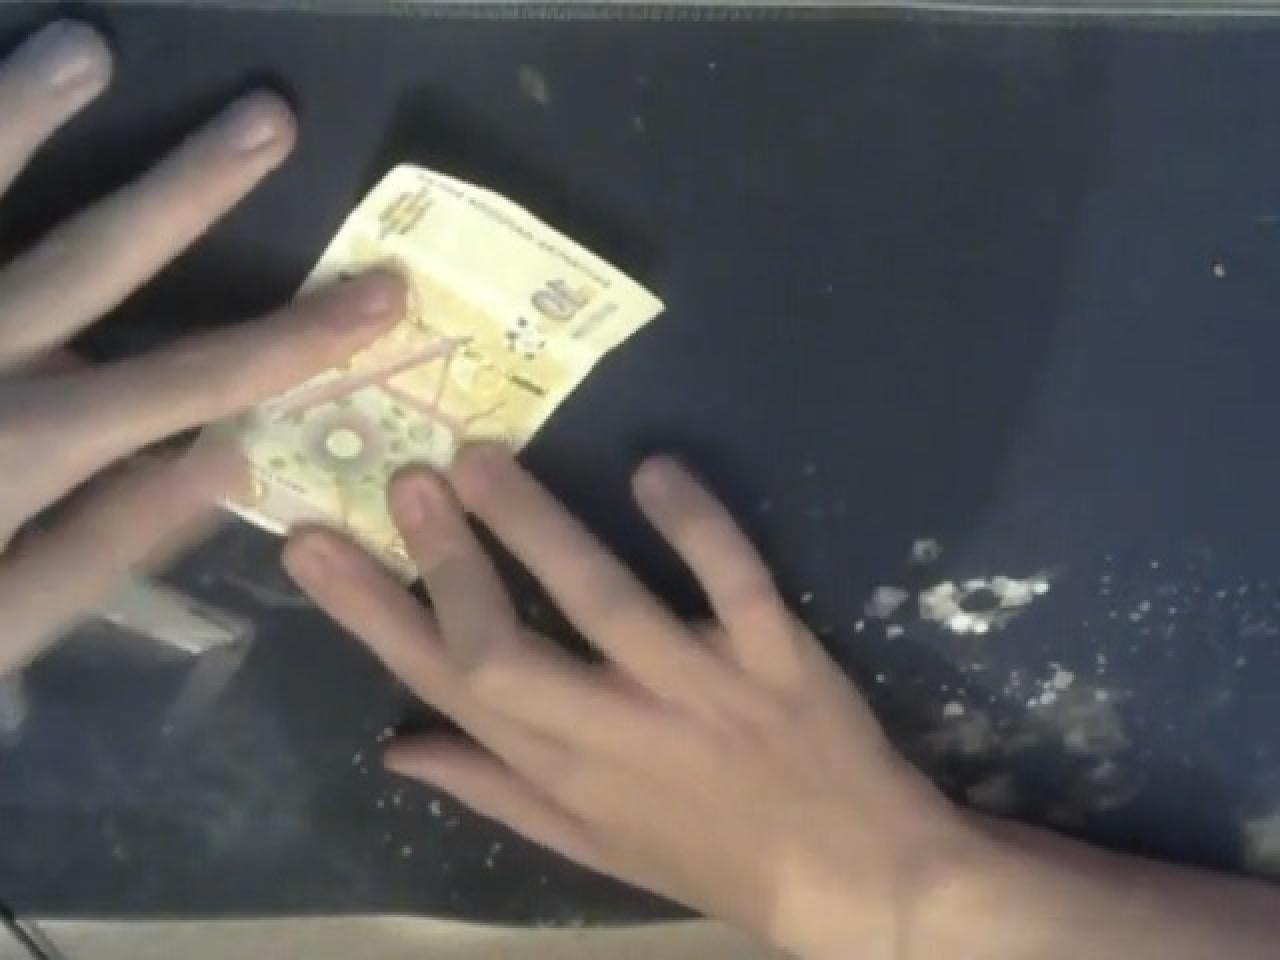10leva: (212, 154, 662, 568)
